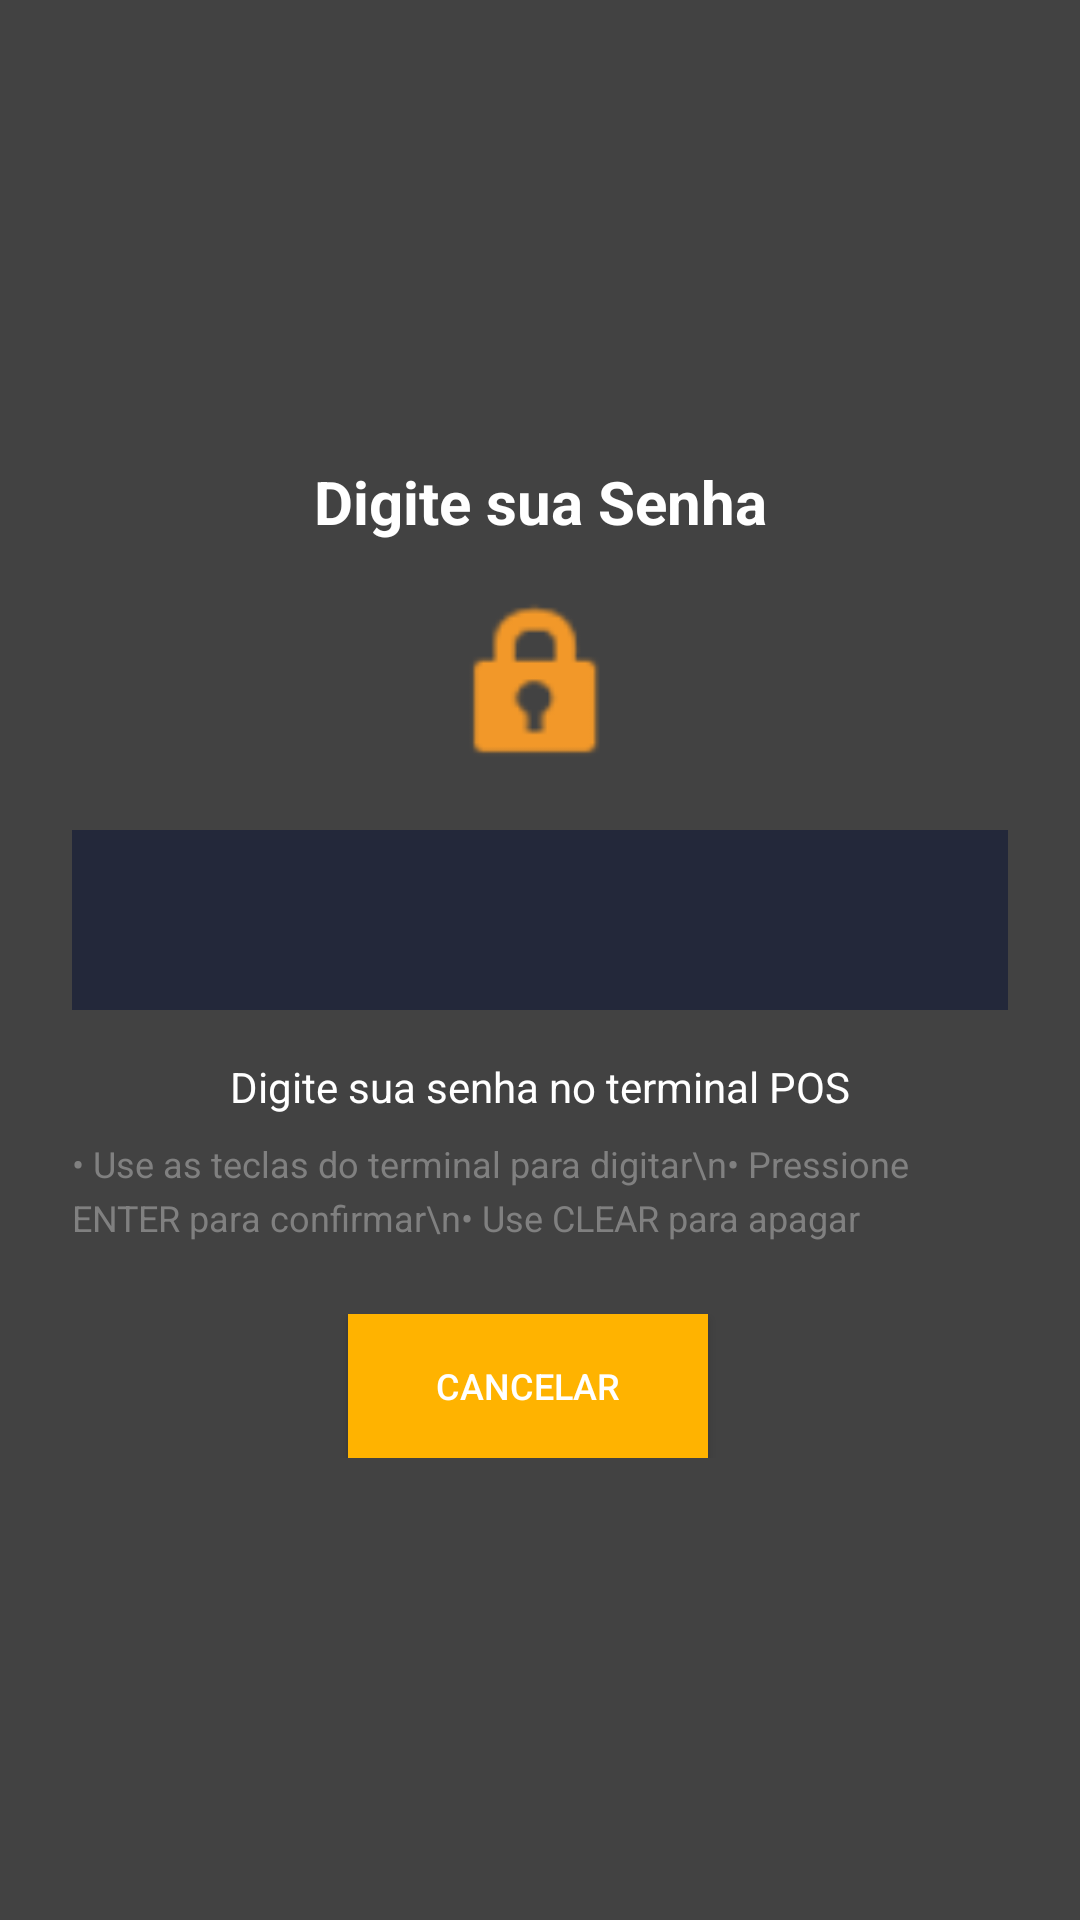

Named icons in this screenshot (1080px x 1920px) and their bounding boxes, (x1,y1,x2,y2):
lock idle: (473,607,598,753)
